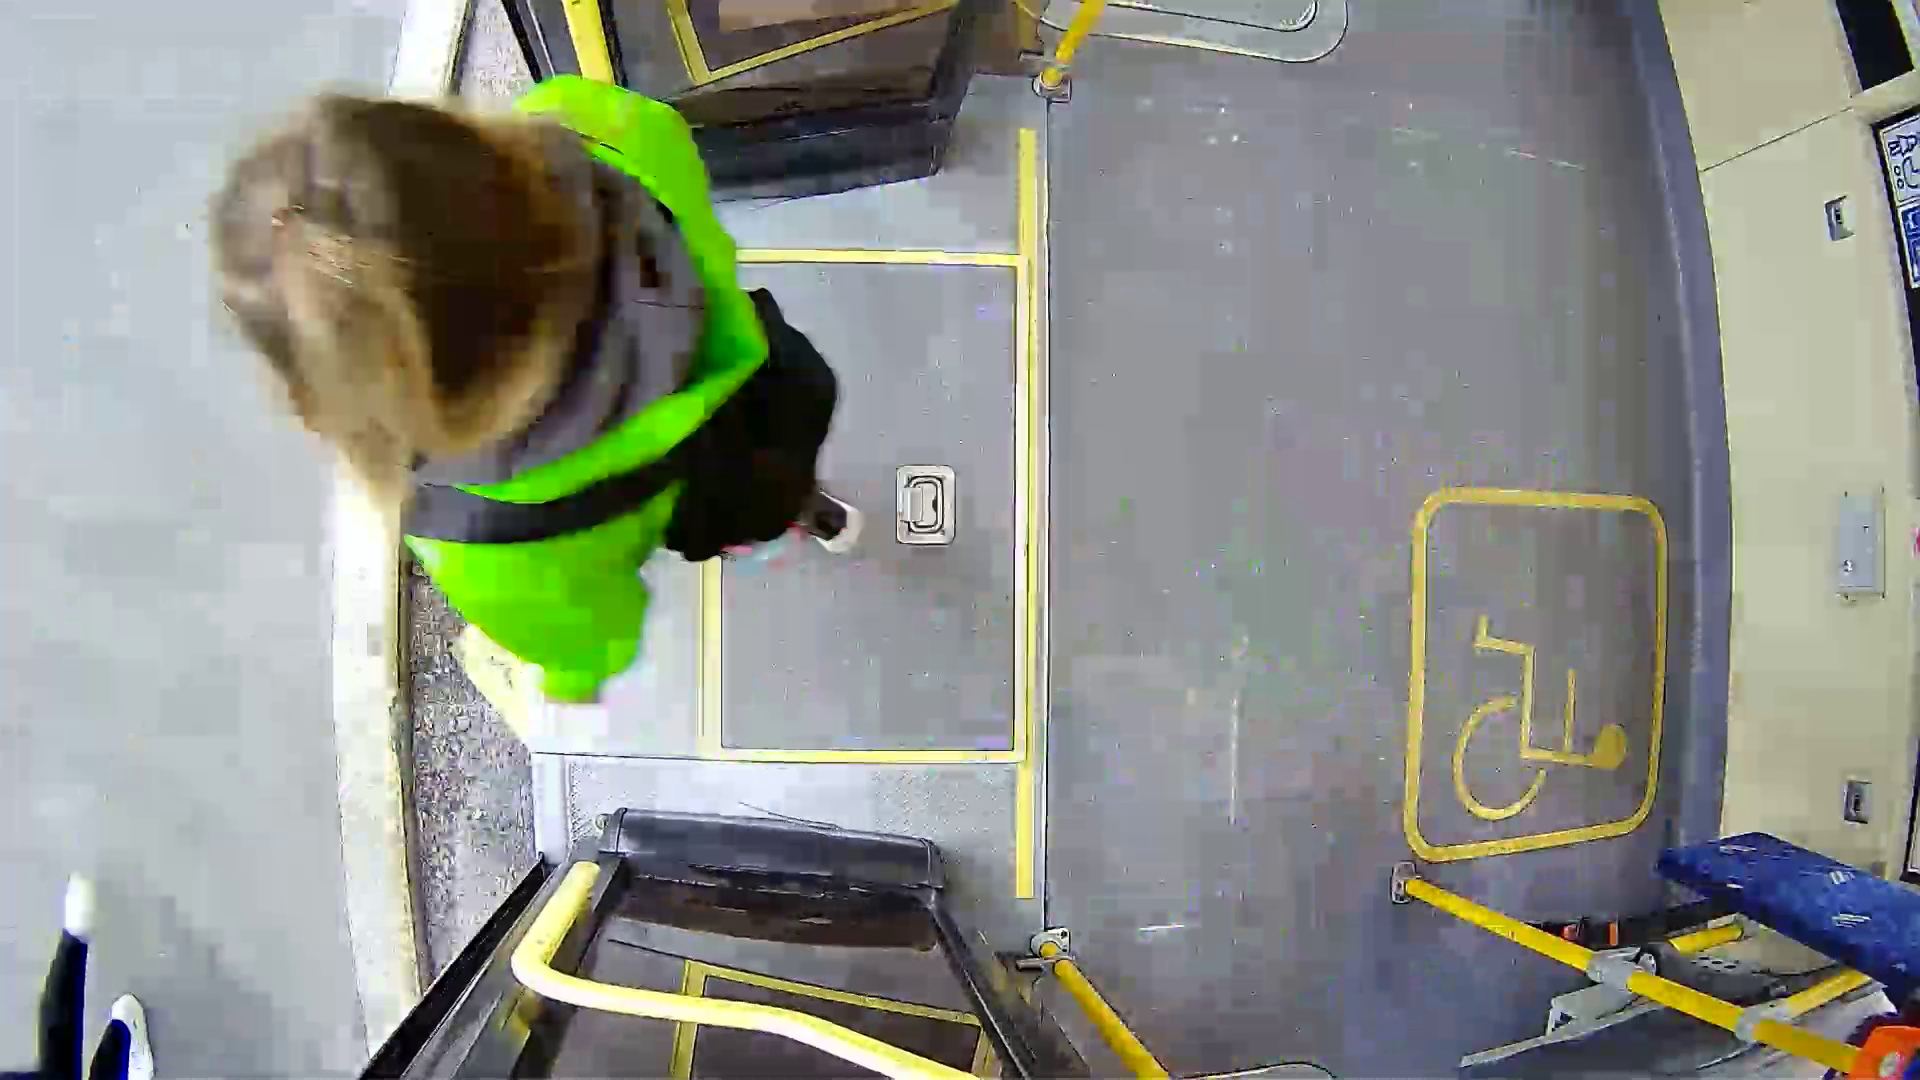person: (196, 126, 970, 658)
